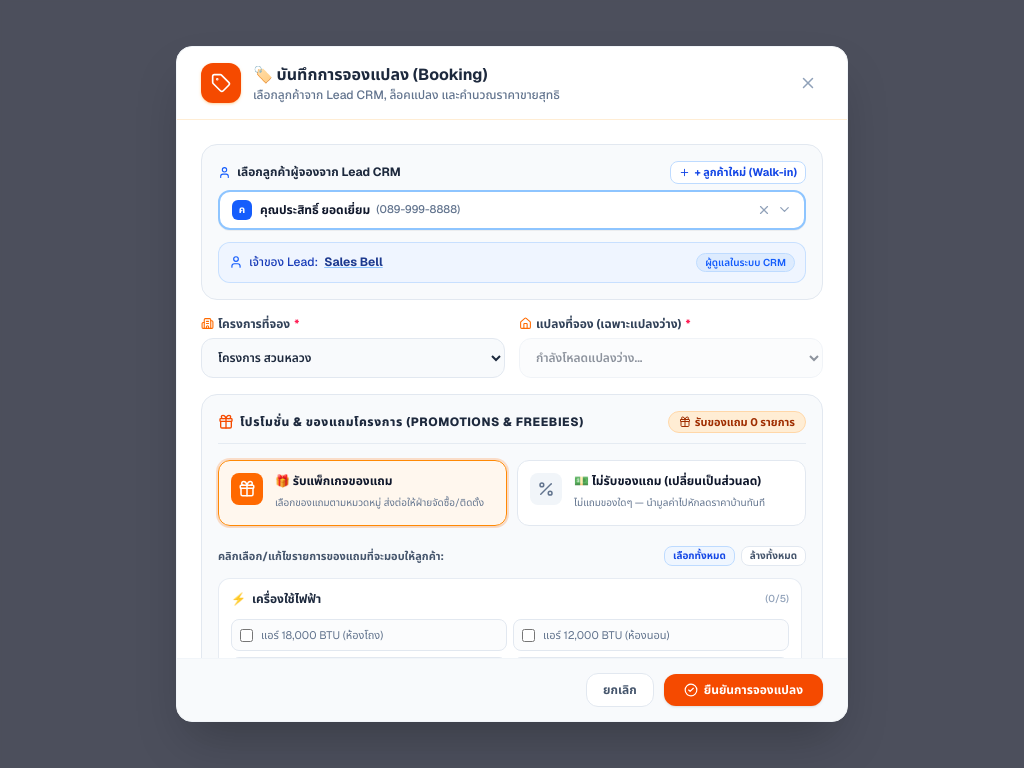
Test: CentralLeadBookingModal › does not allow a fabricated staff name when no sales account is available
Click the button "ยืนยันการจองแปลง" at coordinates (743, 690), box x1=664 y1=674 x2=823 y2=706
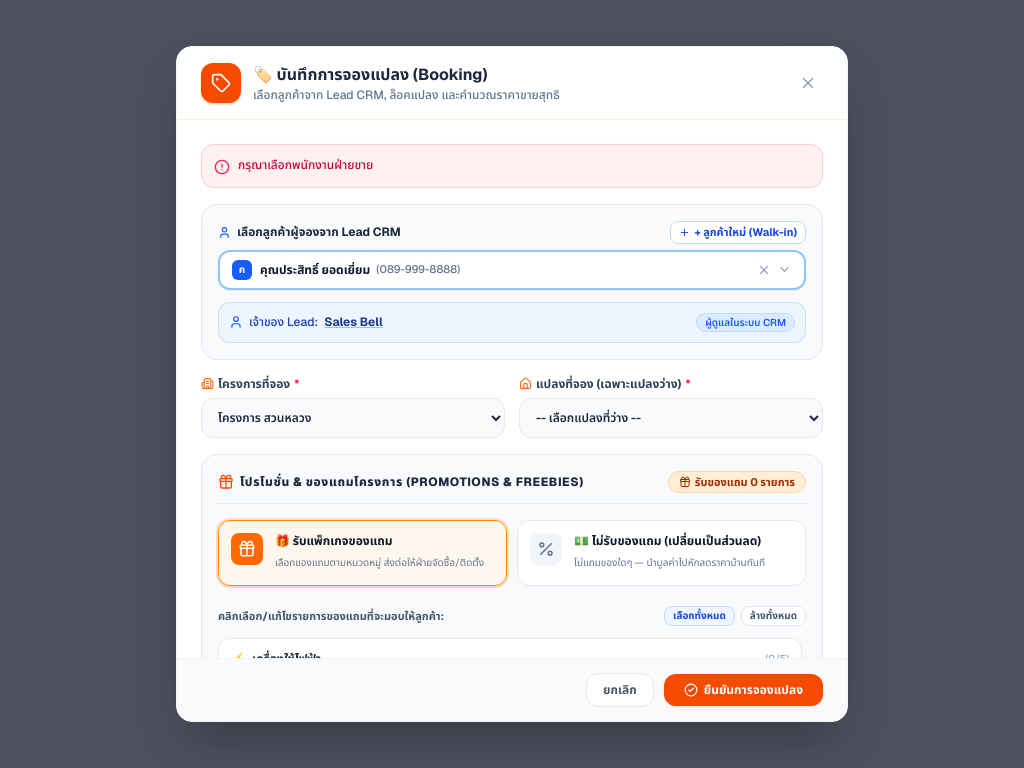
Result: the text "กรุณาเลือกพนักงานฝ่ายขาย" is shown at x1=238 y1=157 x2=373 y2=173
